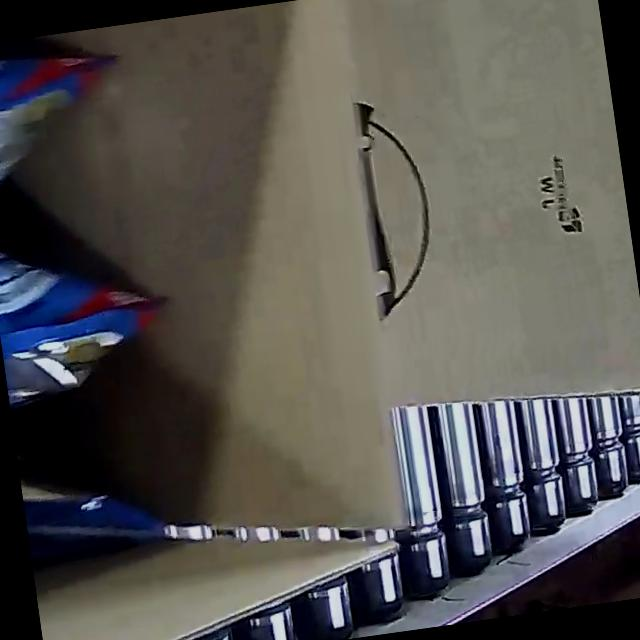paprika: (0, 24, 197, 577)
